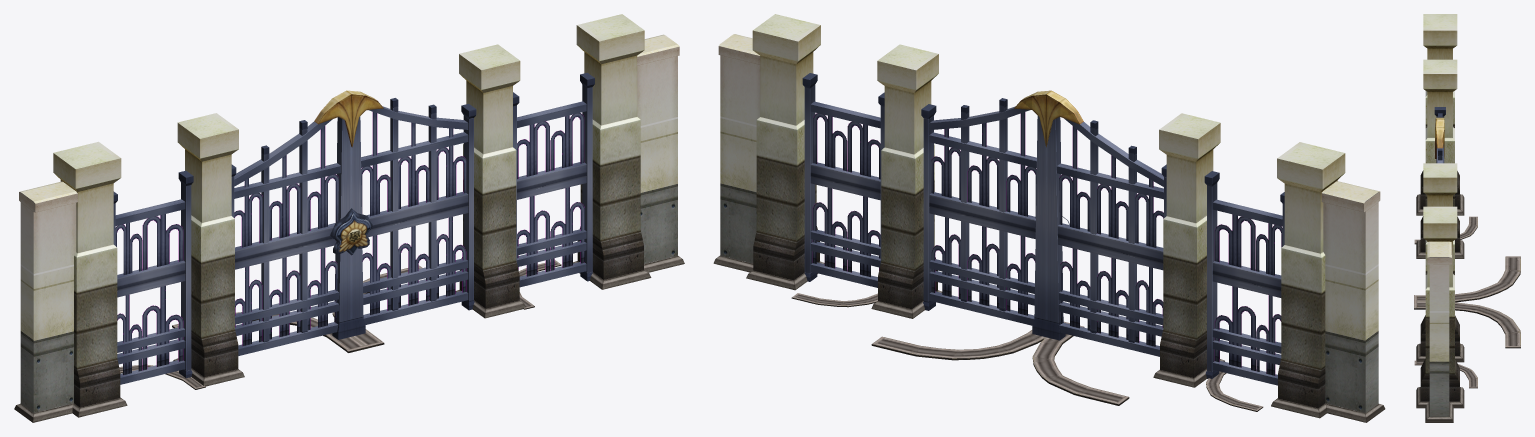
File: a_SEgate.glb
3 renders of one model, left to right at view 1: azimuth 30°, elevation 25°; view 2: azimuth 150°, elevation 25°; view 3: azimuth 270°, elevation 25°, orthographic. The views are drawn at different scales.
Parts seen in each view (by area): view 1: a_SEgate; view 2: a_SEgate; view 3: a_SEgate.
Boxes of the visible parts, bbox=[...] form: a_SEgate: bbox=[14, 14, 684, 422]; a_SEgate: bbox=[713, 14, 1385, 422]; a_SEgate: bbox=[1414, 14, 1520, 422].
Bounding box in the file's own units: 8.09 × 2.9 × 1.52.
Materials: 3 (3 with a texture image).
